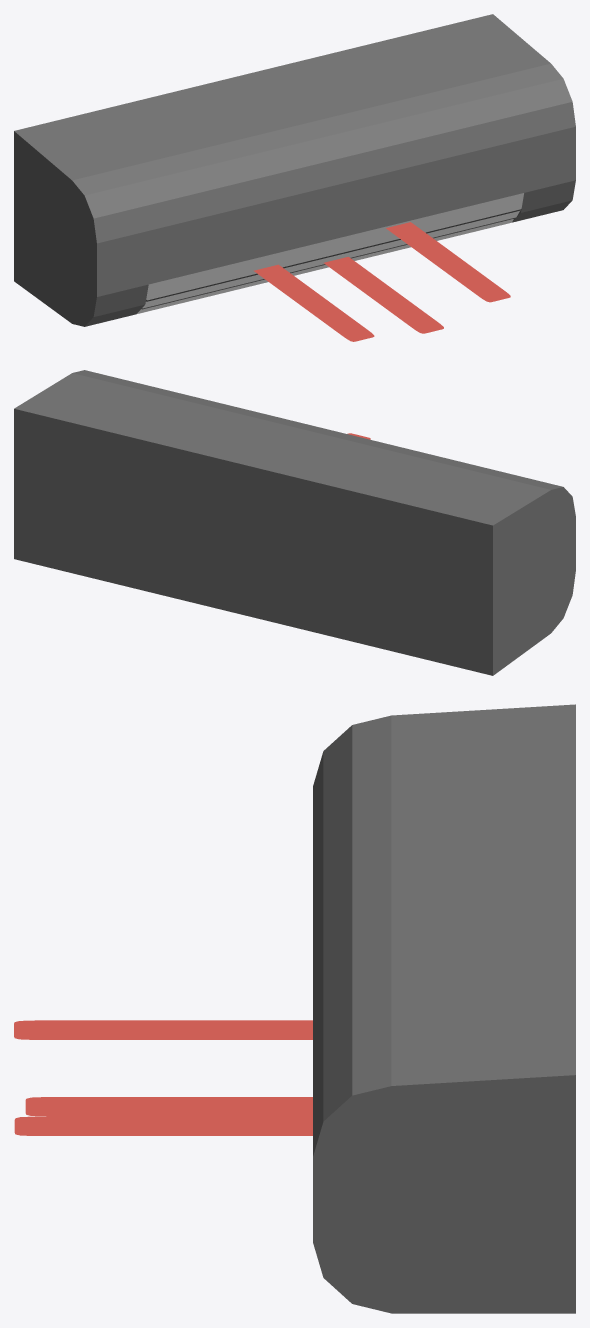
The picture shows the model from 3 angles, top to bottom: view 1: azimuth 30°, elevation 25°; view 2: azimuth 150°, elevation 25°; view 3: azimuth 270°, elevation 25°; orthographic projection. The views are drawn at different scales.
Parts seen in each view (by area): view 1: Plane.001, Plane.003; view 2: Plane.001; view 3: Plane.001, Plane.003.
Part boxes in pixels (box(x1,y1,x2,y2)): Plane.001: box(14, 14, 575, 326); Plane.003: box(253, 222, 510, 341); Plane.001: box(14, 370, 575, 675); Plane.001: box(313, 704, 575, 1313); Plane.003: box(14, 1020, 312, 1135).
Bounding box in the file's own units: 1.15 × 0.345 × 0.7369.
